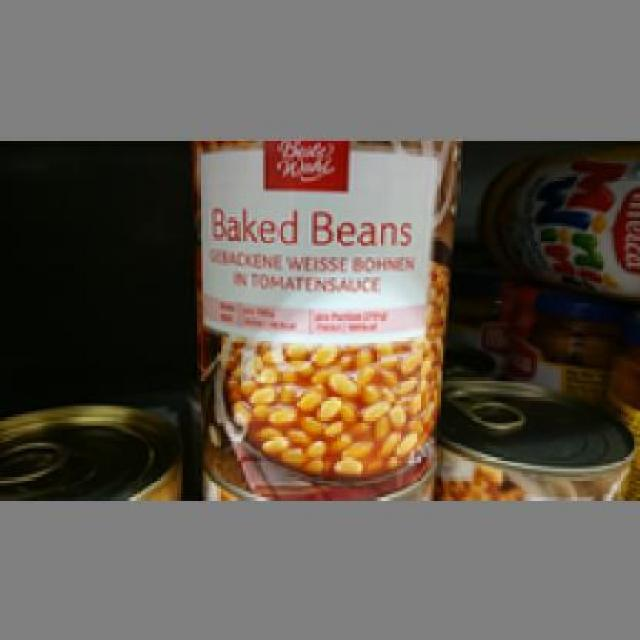Beans: (185, 134, 458, 494)
